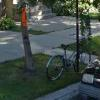Bicycle: (32, 25, 91, 81)
